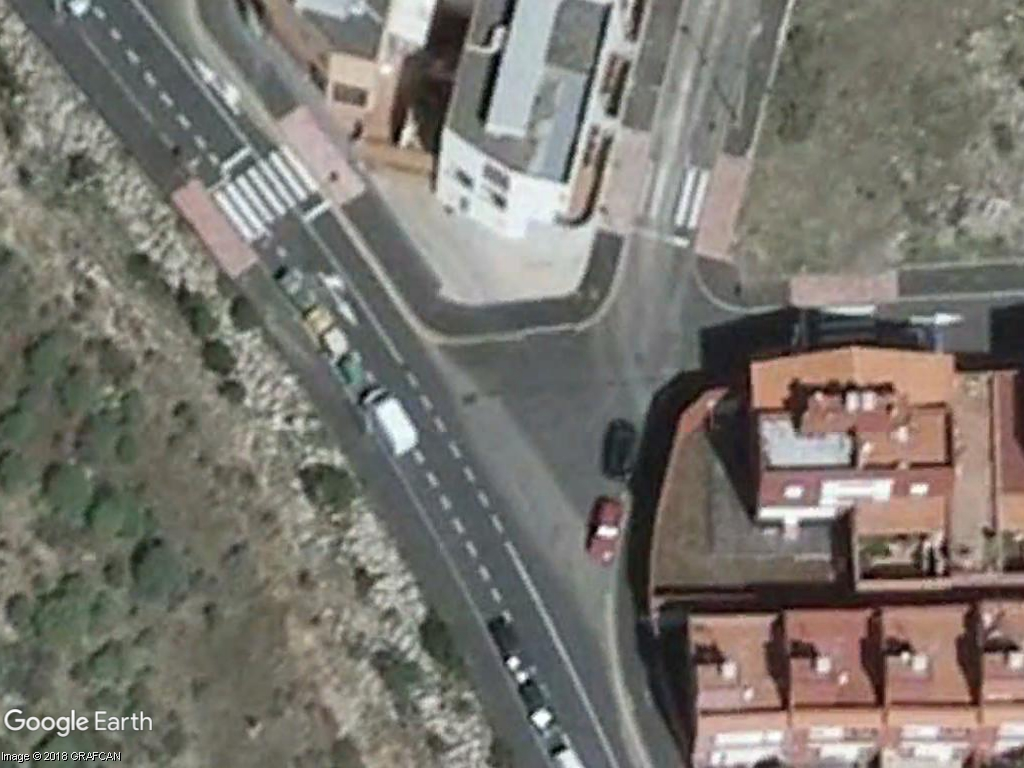other: (584, 490, 624, 573), (604, 413, 642, 485)
truck: (351, 381, 426, 465)
